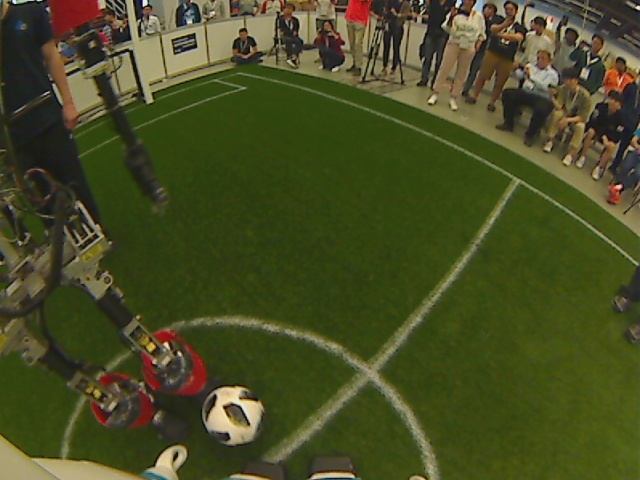ball: (200, 380, 269, 450)
